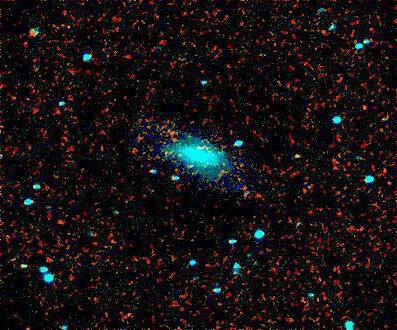star: (46, 207, 76, 237)
